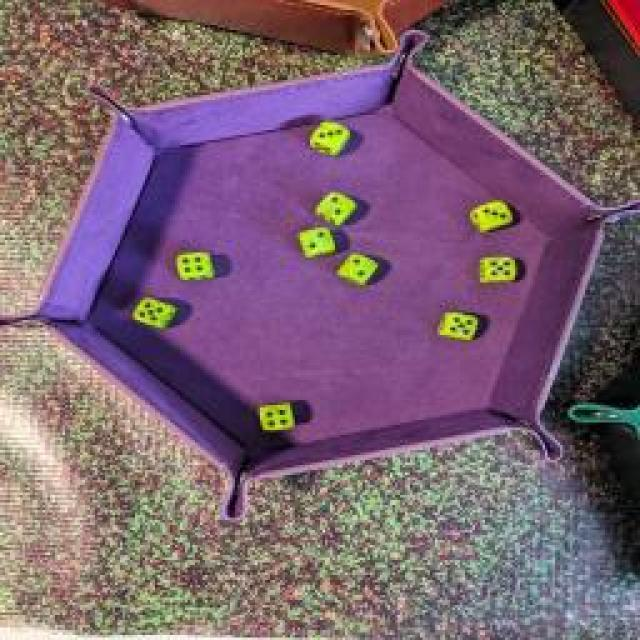dice_2: (332, 247, 386, 285), (315, 186, 365, 224), (292, 224, 340, 261)
dice_3: (308, 115, 352, 160), (463, 197, 515, 235)
dice_4: (254, 400, 301, 438), (171, 248, 219, 284)
dice_5: (125, 292, 180, 332), (429, 308, 486, 344), (472, 255, 522, 287)
